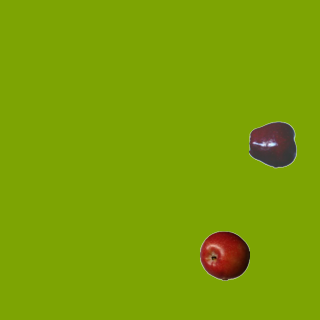Apple Braeburn: (199, 230, 249, 280)
Apple Red Delicious: (248, 119, 298, 169)
